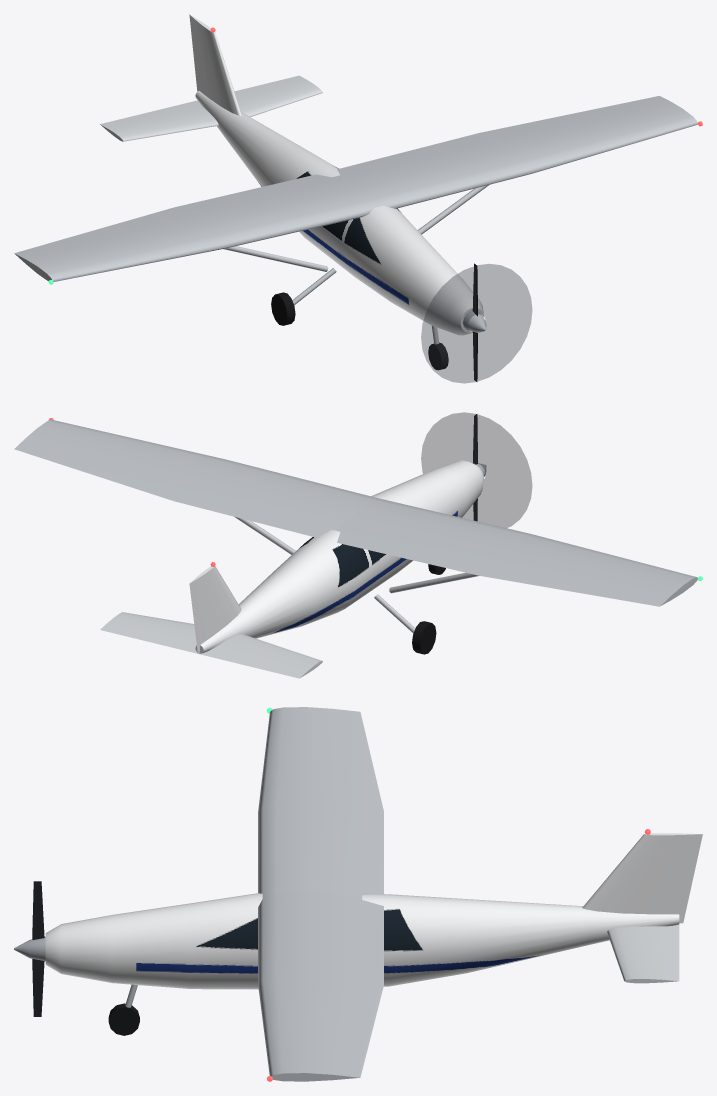
3 renders of one model, top to bottom at view 1: azimuth 30°, elevation 25°; view 2: azimuth 150°, elevation 25°; view 3: azimuth 270°, elevation 25°, orthographic. The views are drawn at different scales.
Parts seen in each view (by area): view 1: body, fixed; view 2: body, fixed; view 3: body, fixed.
Boxes of the visible parts, x1,y1,x2,y2 form: body: (14, 14, 702, 383); fixed: (271, 268, 448, 370); body: (14, 412, 702, 678); fixed: (374, 564, 445, 654); body: (14, 707, 702, 1081); fixed: (108, 984, 139, 1035).
Size of the model in its own units: 11.14 by 2.86 by 8.75.
Materials: 11 (1 with a texture image).
